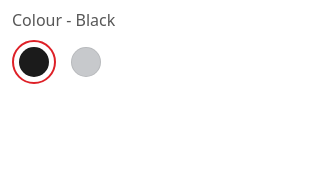
it: ColourSelector › updates the selected state and the label on click
Click the radio button named "Silver": (86, 62) [64,40,108,84]
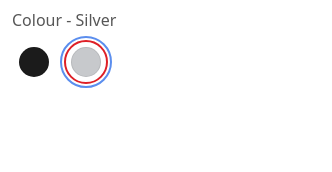
Check: the radio button named "Silver" is checked, box [64,40,108,84]
Check: the radio button named "Black" is not checked, box [12,40,56,84]
